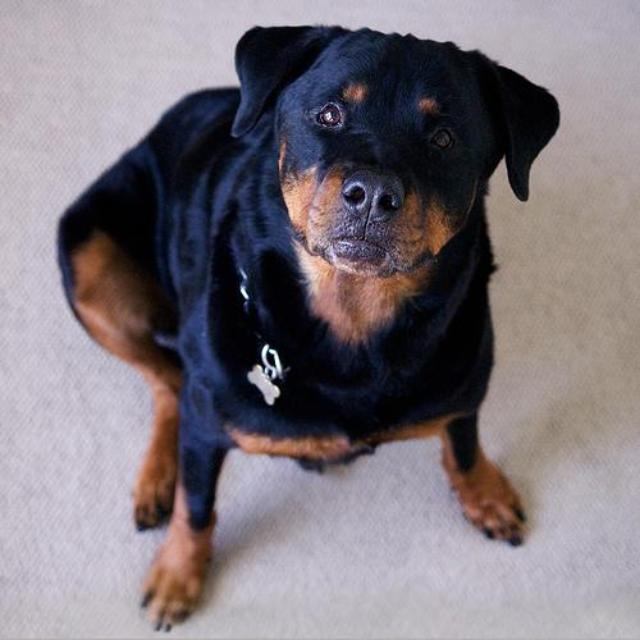rottweiler: (57, 23, 562, 633)
